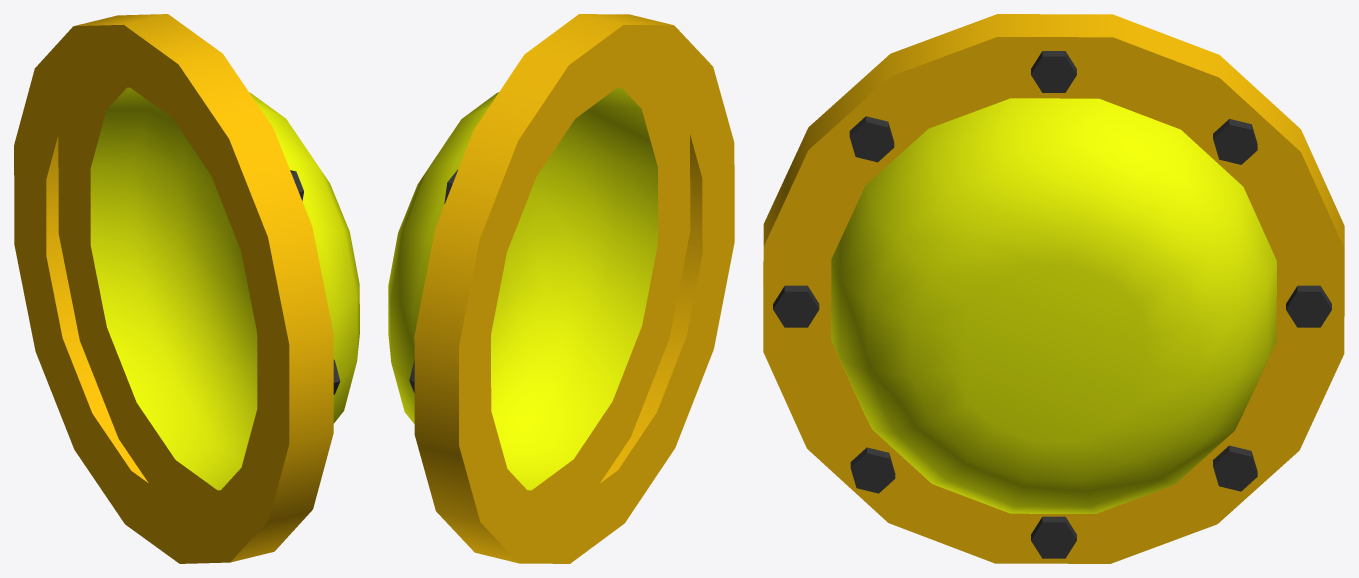
File: pipe cap.fbx
3 views of the same model, side by side, from view 1: azimuth 30°, elevation 25°; view 2: azimuth 150°, elevation 25°; view 3: azimuth 270°, elevation 25° (orthographic). The views are drawn at different scales.
Parts seen in each view (by area): view 1: Pipe_Cap; view 2: Pipe_Cap; view 3: Pipe_Cap.
Boxes of the visible parts, bbox=[...] form: Pipe_Cap: bbox=[14, 14, 359, 563]; Pipe_Cap: bbox=[388, 14, 734, 563]; Pipe_Cap: bbox=[763, 14, 1344, 563].
Size of the model in its own units: 9.98 by 32.28 by 32.28.
